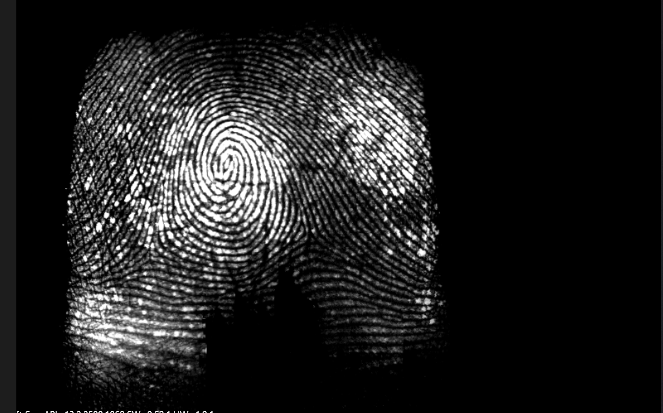deltas: (281, 208, 333, 253), (129, 227, 175, 272)
nucleo: (207, 139, 255, 189)
